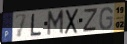7: (14, 13, 27, 40)
G: (98, 6, 114, 32)
L: (30, 13, 43, 37)
M: (46, 9, 65, 38)
X: (64, 7, 80, 36)
Z: (82, 7, 99, 34)
